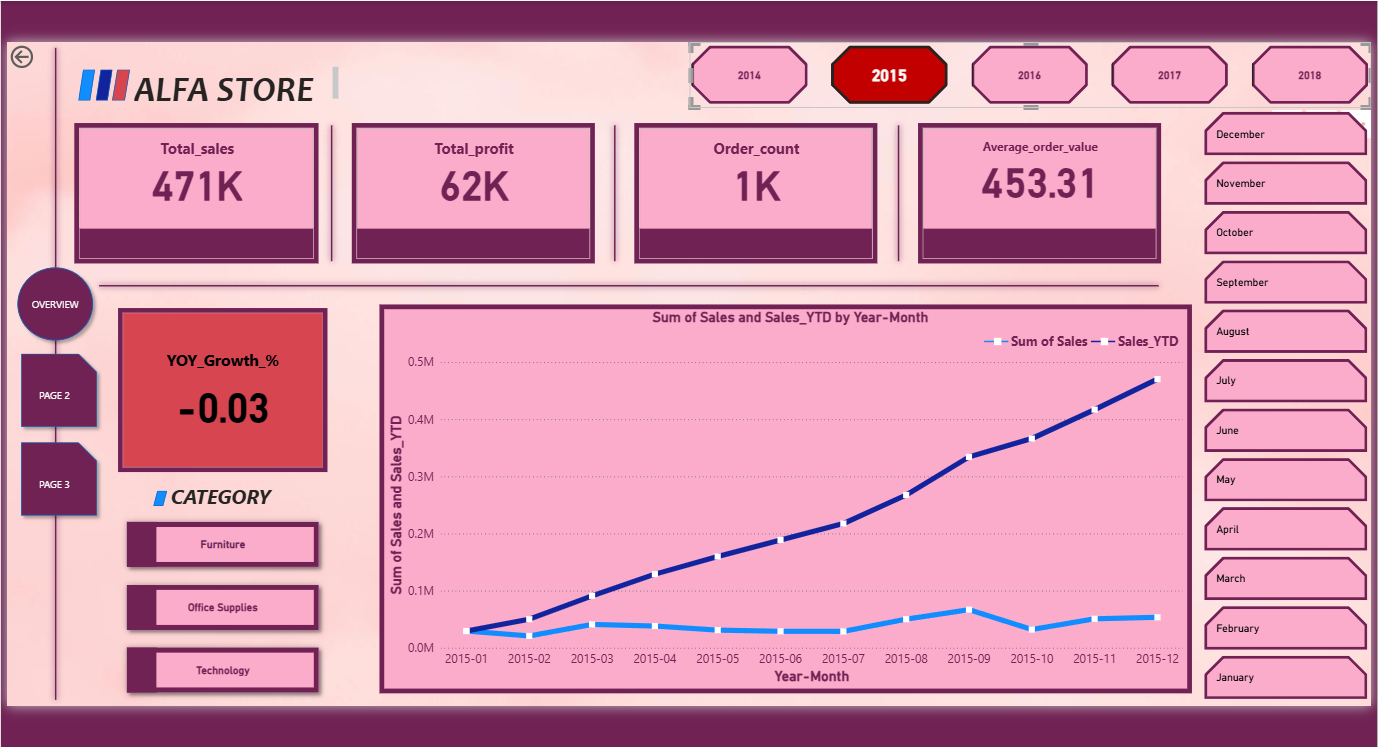

This screenshot's page, from the dashboard's own definition file:
{"tool":"powerbi","page":{"name":"Page 1","canvas":[1850,900],"ordinal":0},"visuals":[{"type":"actionButton","box":[0,0,100,40.4],"z":0},{"type":"advancedSlicerVisual","fields":{"Values":["Dim_Date.Year"]},"box":[925.9,0,924.1,89.7],"z":1000},{"type":"cardVisual","fields":{"Data":["Sample - Superstore.Total_sales"]},"box":[86.2,105.2,341.4,200],"z":2000},{"type":"cardVisual","fields":{"Data":["Sample - Superstore.Total_profit"]},"box":[462.1,105.2,339.7,200],"z":3000},{"type":"cardVisual","fields":{"Data":["Sample - Superstore.Order_count"]},"box":[846.6,105.2,339.7,200],"z":4000},{"type":"cardVisual","fields":{"Data":["Sample - Superstore.Average_order_value"]},"box":[1231,105.2,339.7,200],"z":5000},{"type":"shape","box":[96.8,37.9,22.8,42.1],"z":6000},{"type":"shape","box":[119.6,37.9,22.8,42.1],"z":7000},{"type":"shape","box":[142.5,37.9,24.6,42.1],"z":8000},{"type":"textbox","box":[167.2,29.3,286.2,60.3],"z":9000},{"type":"shape","box":[419,105.2,43.1,200],"z":10000},{"type":"shape","box":[43.9,0,43.9,900],"z":11000},{"type":"shape","box":[1186.2,105.2,44.8,200],"z":12000},{"type":"cardVisual","fields":{"Data":["Sample - Superstore.YOY_Growth_%"]},"box":[145.8,355.9,294.9,232.2],"z":13000},{"type":"advancedSlicerVisual","fields":{"Values":["Dim_Date.Month Name"]},"box":[1619.3,89.5,231.6,810.5],"z":14000},{"type":"shape","box":[5.2,296.6,120.7,117.2],"z":15000},{"type":"shape","box":[801.7,105.2,44.8,200],"z":16000},{"type":"lineChart","fields":{"Y":["Sum(Sample - Superstore.Sales)","Sample - Superstore.Sales_YTD"],"Category":["Dim_Date.Year-Month"]},"box":[505.2,355.2,1101.7,527.6],"z":17000},{"type":"shape","box":[116.9,305.1,1452.5,50.8],"z":18000},{"type":"advancedSlicerVisual","fields":{"Values":["Dim_Product.Category"]},"box":[146.6,634.5,294.8,265.5],"z":19000},{"type":"shape","box":[198.3,608.6,19,20.7],"z":20000},{"type":"textbox","box":[217.2,593.1,155.2,51.7],"z":21000},{"type":"shape","box":[10.3,413.8,120.7,117.2],"z":22000},{"type":"shape","box":[10.3,534.5,120.7,117.2],"z":23000}]}

Visuals, with their boxes in screenshot pixels (x1, y1, x2, y2):
actionButton: 4/39/77/69
advancedSlicerVisual - Dim_Date.Year: 684/39/1363/105
cardVisual - Sample - Superstore.Total_sales: 67/117/318/264
cardVisual - Sample - Superstore.Total_profit: 343/117/593/264
cardVisual - Sample - Superstore.Order_count: 625/117/875/264
cardVisual - Sample - Superstore.Average_order_value: 908/117/1157/264
shape: 75/67/91/98
shape: 91/67/108/98
shape: 108/67/126/98
textbox: 126/61/337/105
shape: 311/117/343/264
shape: 36/39/68/701
shape: 875/117/908/264
cardVisual - Sample - Superstore.YOY_Growth_%: 111/301/327/471
advancedSlicerVisual - Dim_Date.Month Name: 1193/105/1363/701
shape: 7/257/96/343
shape: 592/117/625/264
lineChart - Sum(Sample - Superstore.Sales) x Sample - Superstore.Sales_YTD: 375/300/1184/688
shape: 89/264/1156/301
advancedSlicerVisual - Dim_Product.Category: 111/506/328/701
shape: 149/487/163/502
textbox: 163/475/277/513
shape: 11/343/100/430
shape: 11/432/100/518
